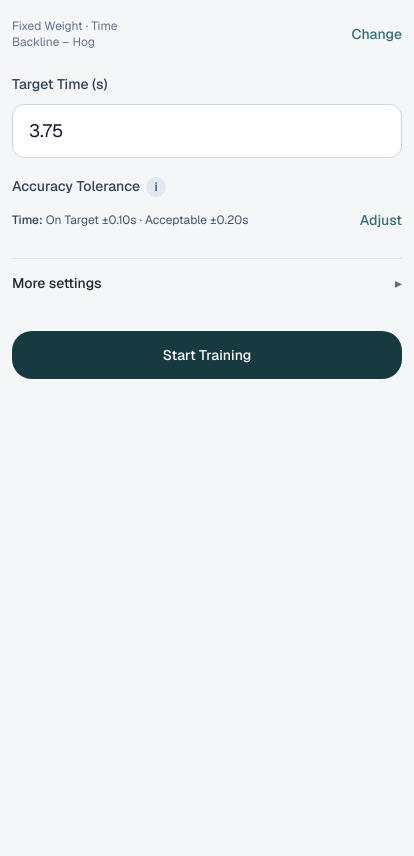
it: the measurement selection is offered only where it applies › is not offered for Variable Weight, which measures time
What coordinates should you click on to do the following:
click the button "Change"
I would click on:
 (377, 34)
Its box is [352, 12, 402, 56].
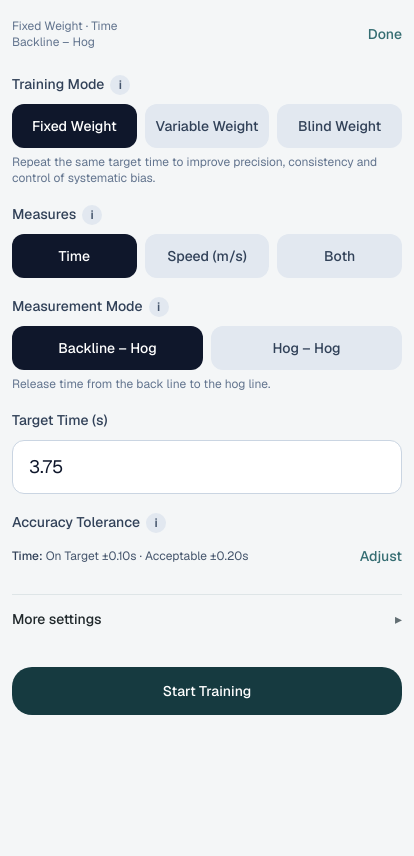
Now the element named "Measures" is shown, box [12, 234, 402, 278]
What coordinates should you click on to do the following:
click the button "Variable Weight"
I would click on:
 (207, 126)
Its box is [145, 104, 269, 148].
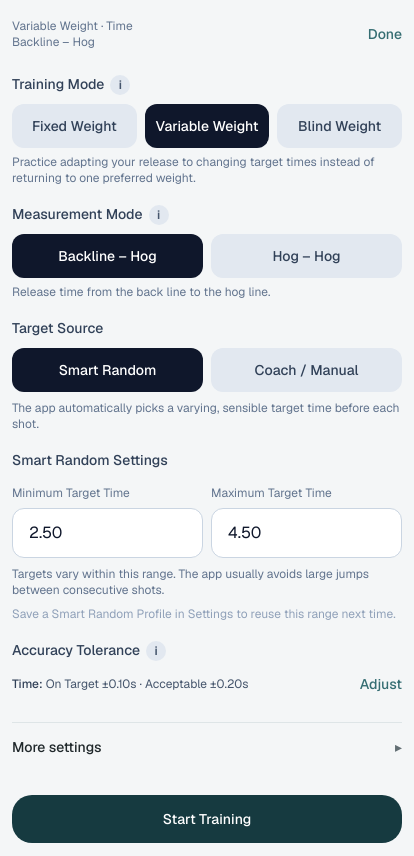
Now the text "Measures" is gone
